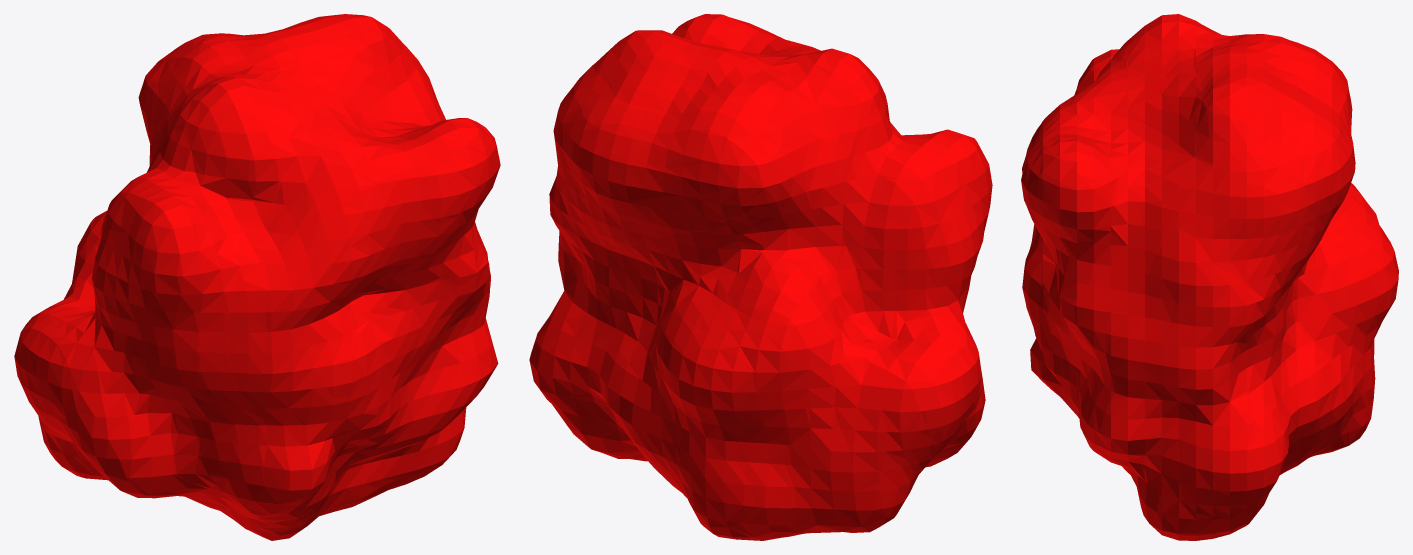
File: fdhE_coarse.dae
The picture shows the model from 3 angles, left to right: view 1: azimuth 30°, elevation 25°; view 2: azimuth 150°, elevation 25°; view 3: azimuth 270°, elevation 25°; orthographic projection. The views are drawn at different scales.
Parts seen in each view (by area): view 1: fdhE; view 2: fdhE; view 3: fdhE.
Part boxes in pixels (box(x1,y1,x2,y2)): fdhE: box(14, 14, 500, 540); fdhE: box(529, 14, 992, 540); fdhE: box(1021, 14, 1398, 540).
Bounding box in the file's own units: 54.08 × 55.45 × 41.62.
